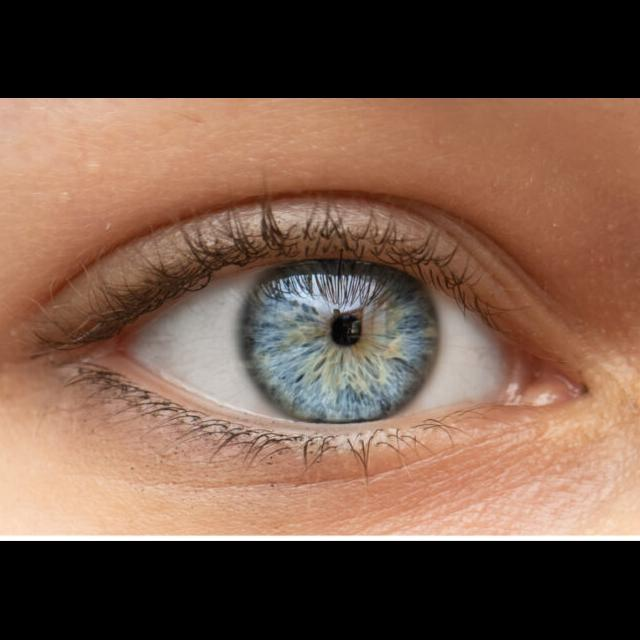eye: (119, 256, 507, 428)
iris: (238, 264, 438, 424)
